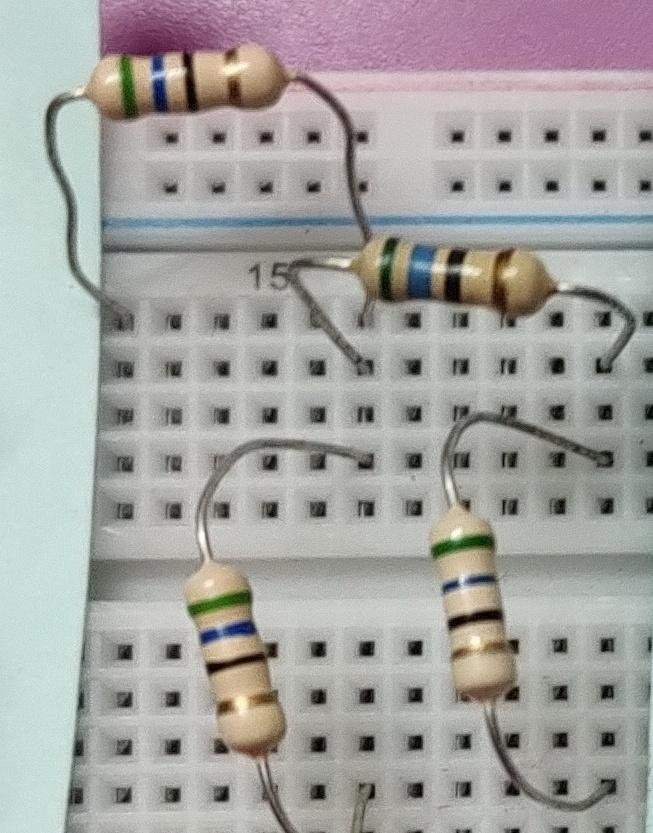resistor: (172, 557, 300, 772), (417, 487, 526, 721), (344, 225, 568, 332), (74, 39, 290, 126)
